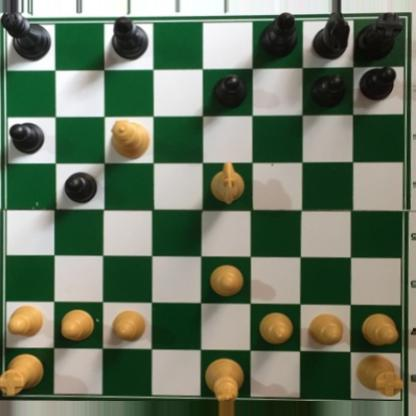black-bishop: (258, 12, 300, 57), (110, 15, 150, 61)
black-king: (0, 12, 51, 62)
black-knight: (312, 12, 349, 61)
black-pawn: (358, 64, 397, 101), (211, 72, 247, 110), (310, 73, 346, 111), (7, 122, 46, 155), (60, 170, 97, 204)
black-rook: (353, 12, 403, 63)
white-king: (199, 358, 243, 402)
white-knight: (209, 160, 246, 207)
white-pawn: (356, 311, 399, 351), (4, 300, 45, 337), (306, 312, 346, 348), (57, 308, 96, 343), (256, 311, 295, 346), (207, 264, 245, 299), (111, 309, 146, 343)
white-queen: (109, 116, 151, 156)
white-rook: (352, 351, 404, 397), (0, 349, 46, 399)
